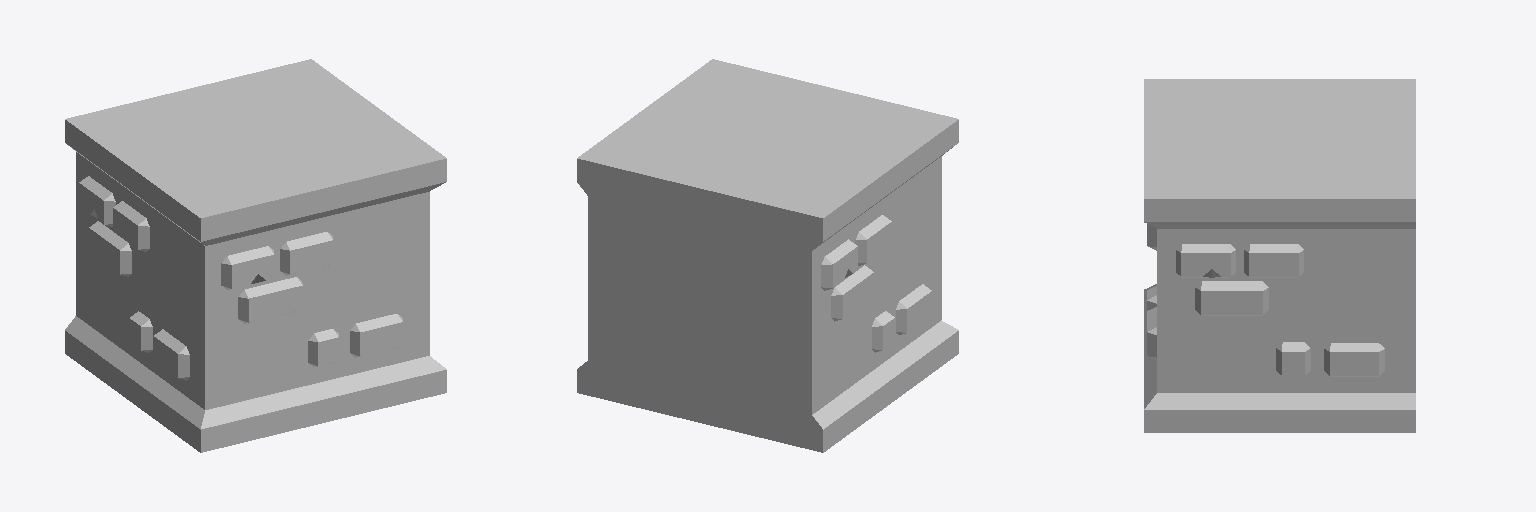
Rendered from floor_foundation_front_and_sides.obj.
The picture shows the model from 3 angles: view 1: azimuth 30°, elevation 25°; view 2: azimuth 150°, elevation 25°; view 3: azimuth 270°, elevation 25°; orthographic projection.
Visible parts, largest first — view 1: floor_foundation_front_and_sides; view 2: floor_foundation_front_and_sides; view 3: floor_foundation_front_and_sides.
Part boxes in pixels (left/top/right/bottom): floor_foundation_front_and_sides: left=65, top=59, right=446, bottom=452; floor_foundation_front_and_sides: left=577, top=59, right=958, bottom=452; floor_foundation_front_and_sides: left=1144, top=79, right=1415, bottom=432.
Bounding box in the file's own units: 2.2 × 2 × 2.1.